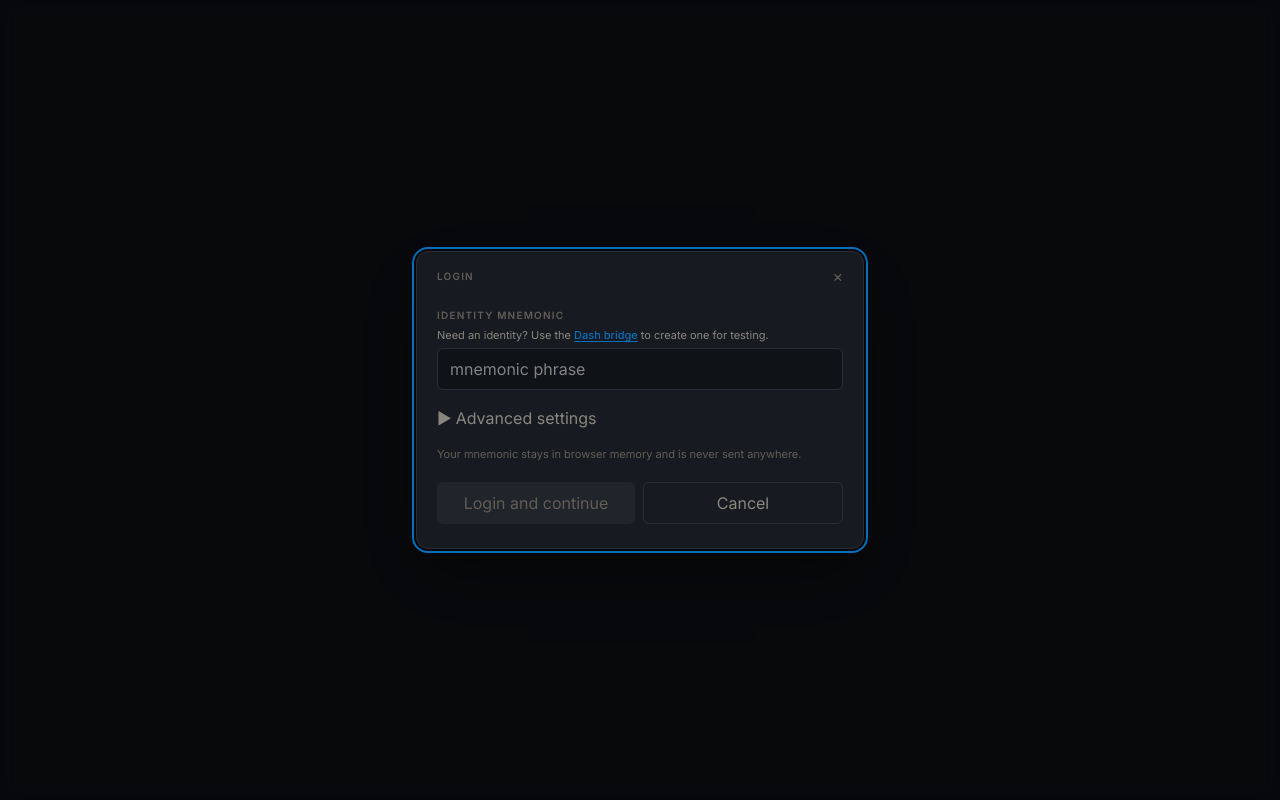
Test: LoginModal › displays an error when login throws
This screenshot has width=1280, height=800.
Type "garbage" into the password field with placeholder "mnemonic phrase". click: (640, 368)
box: [437,348,843,390]
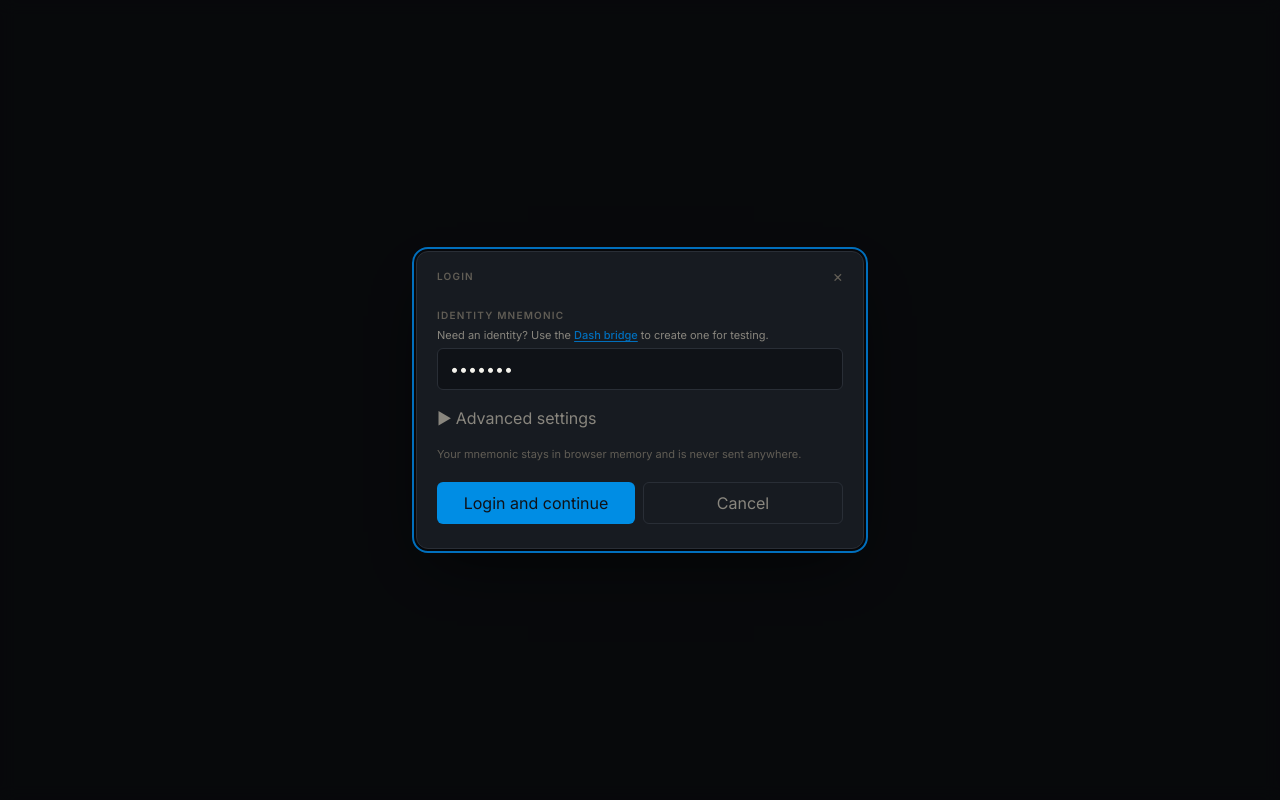
Click the button "Login and continue". click: (536, 503)
box: [437,482,635,524]
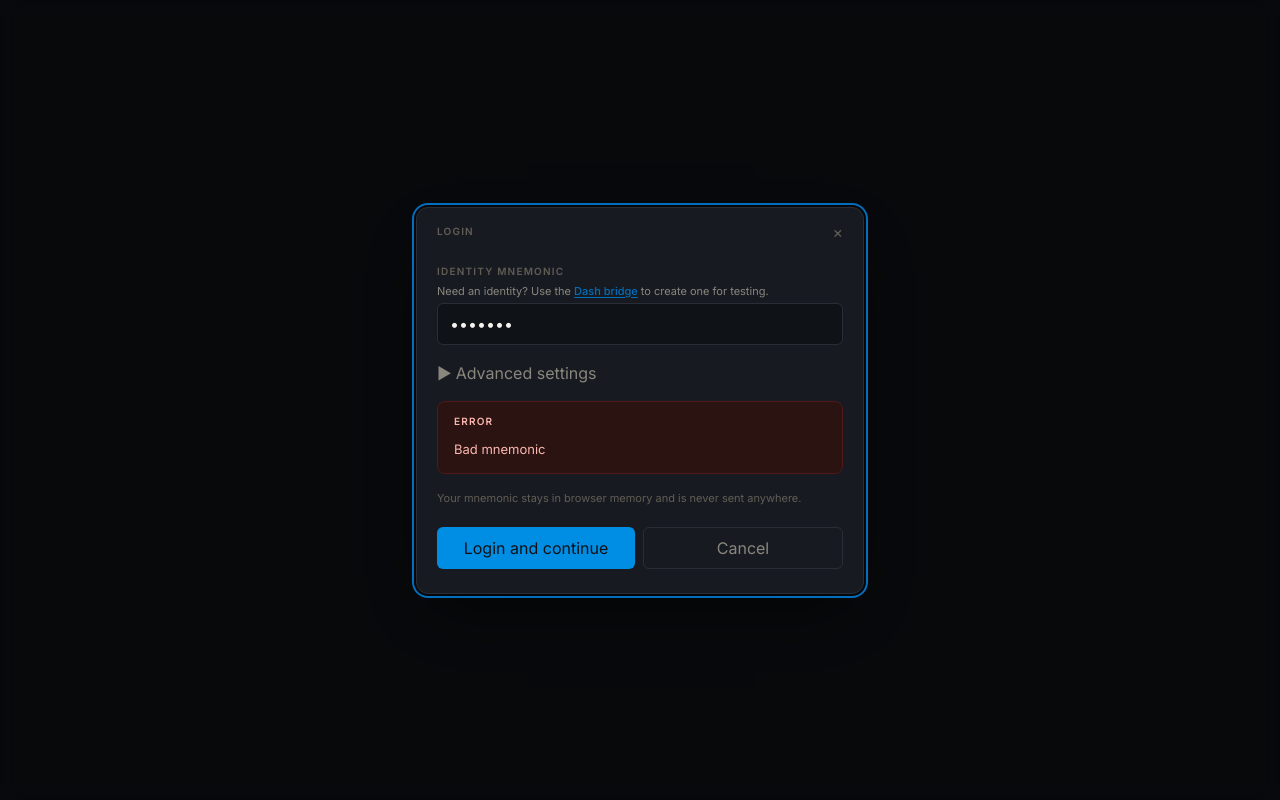
expect the text "Bad mnemonic" is shown: met, box [454,441,546,457]
